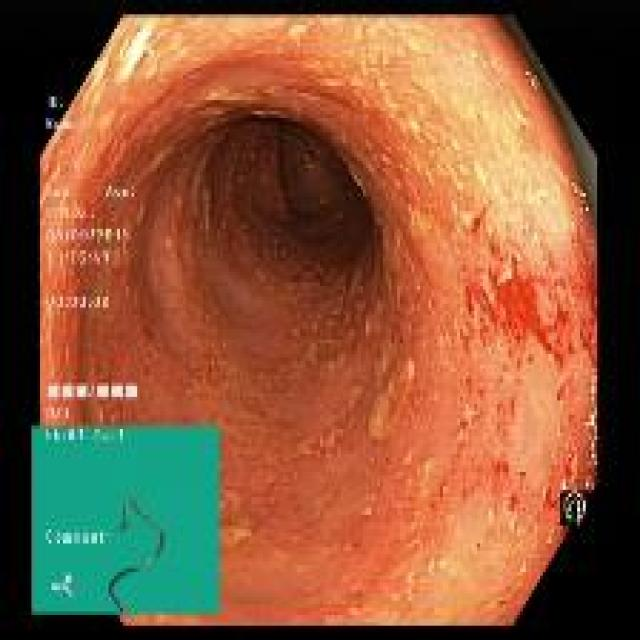ulcerative-colitis: (40, 17, 598, 623)
